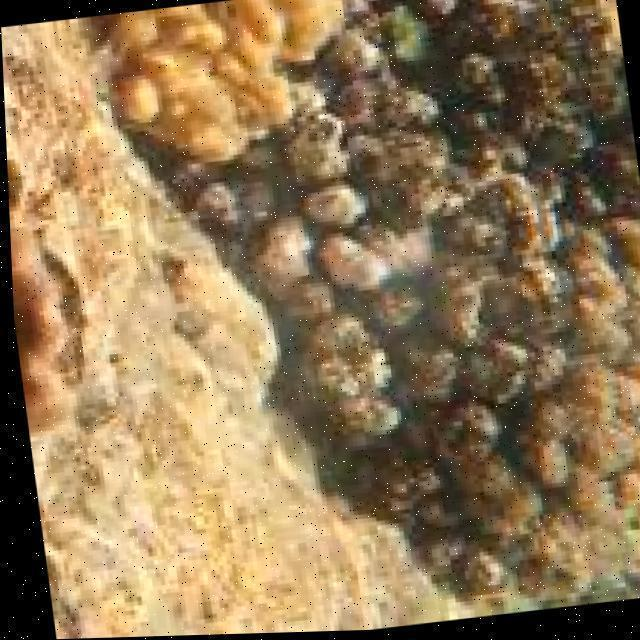Dead Coral: (261, 0, 640, 604)
